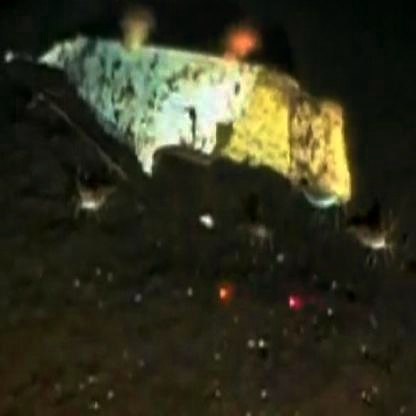misc: (65, 76, 318, 220)
